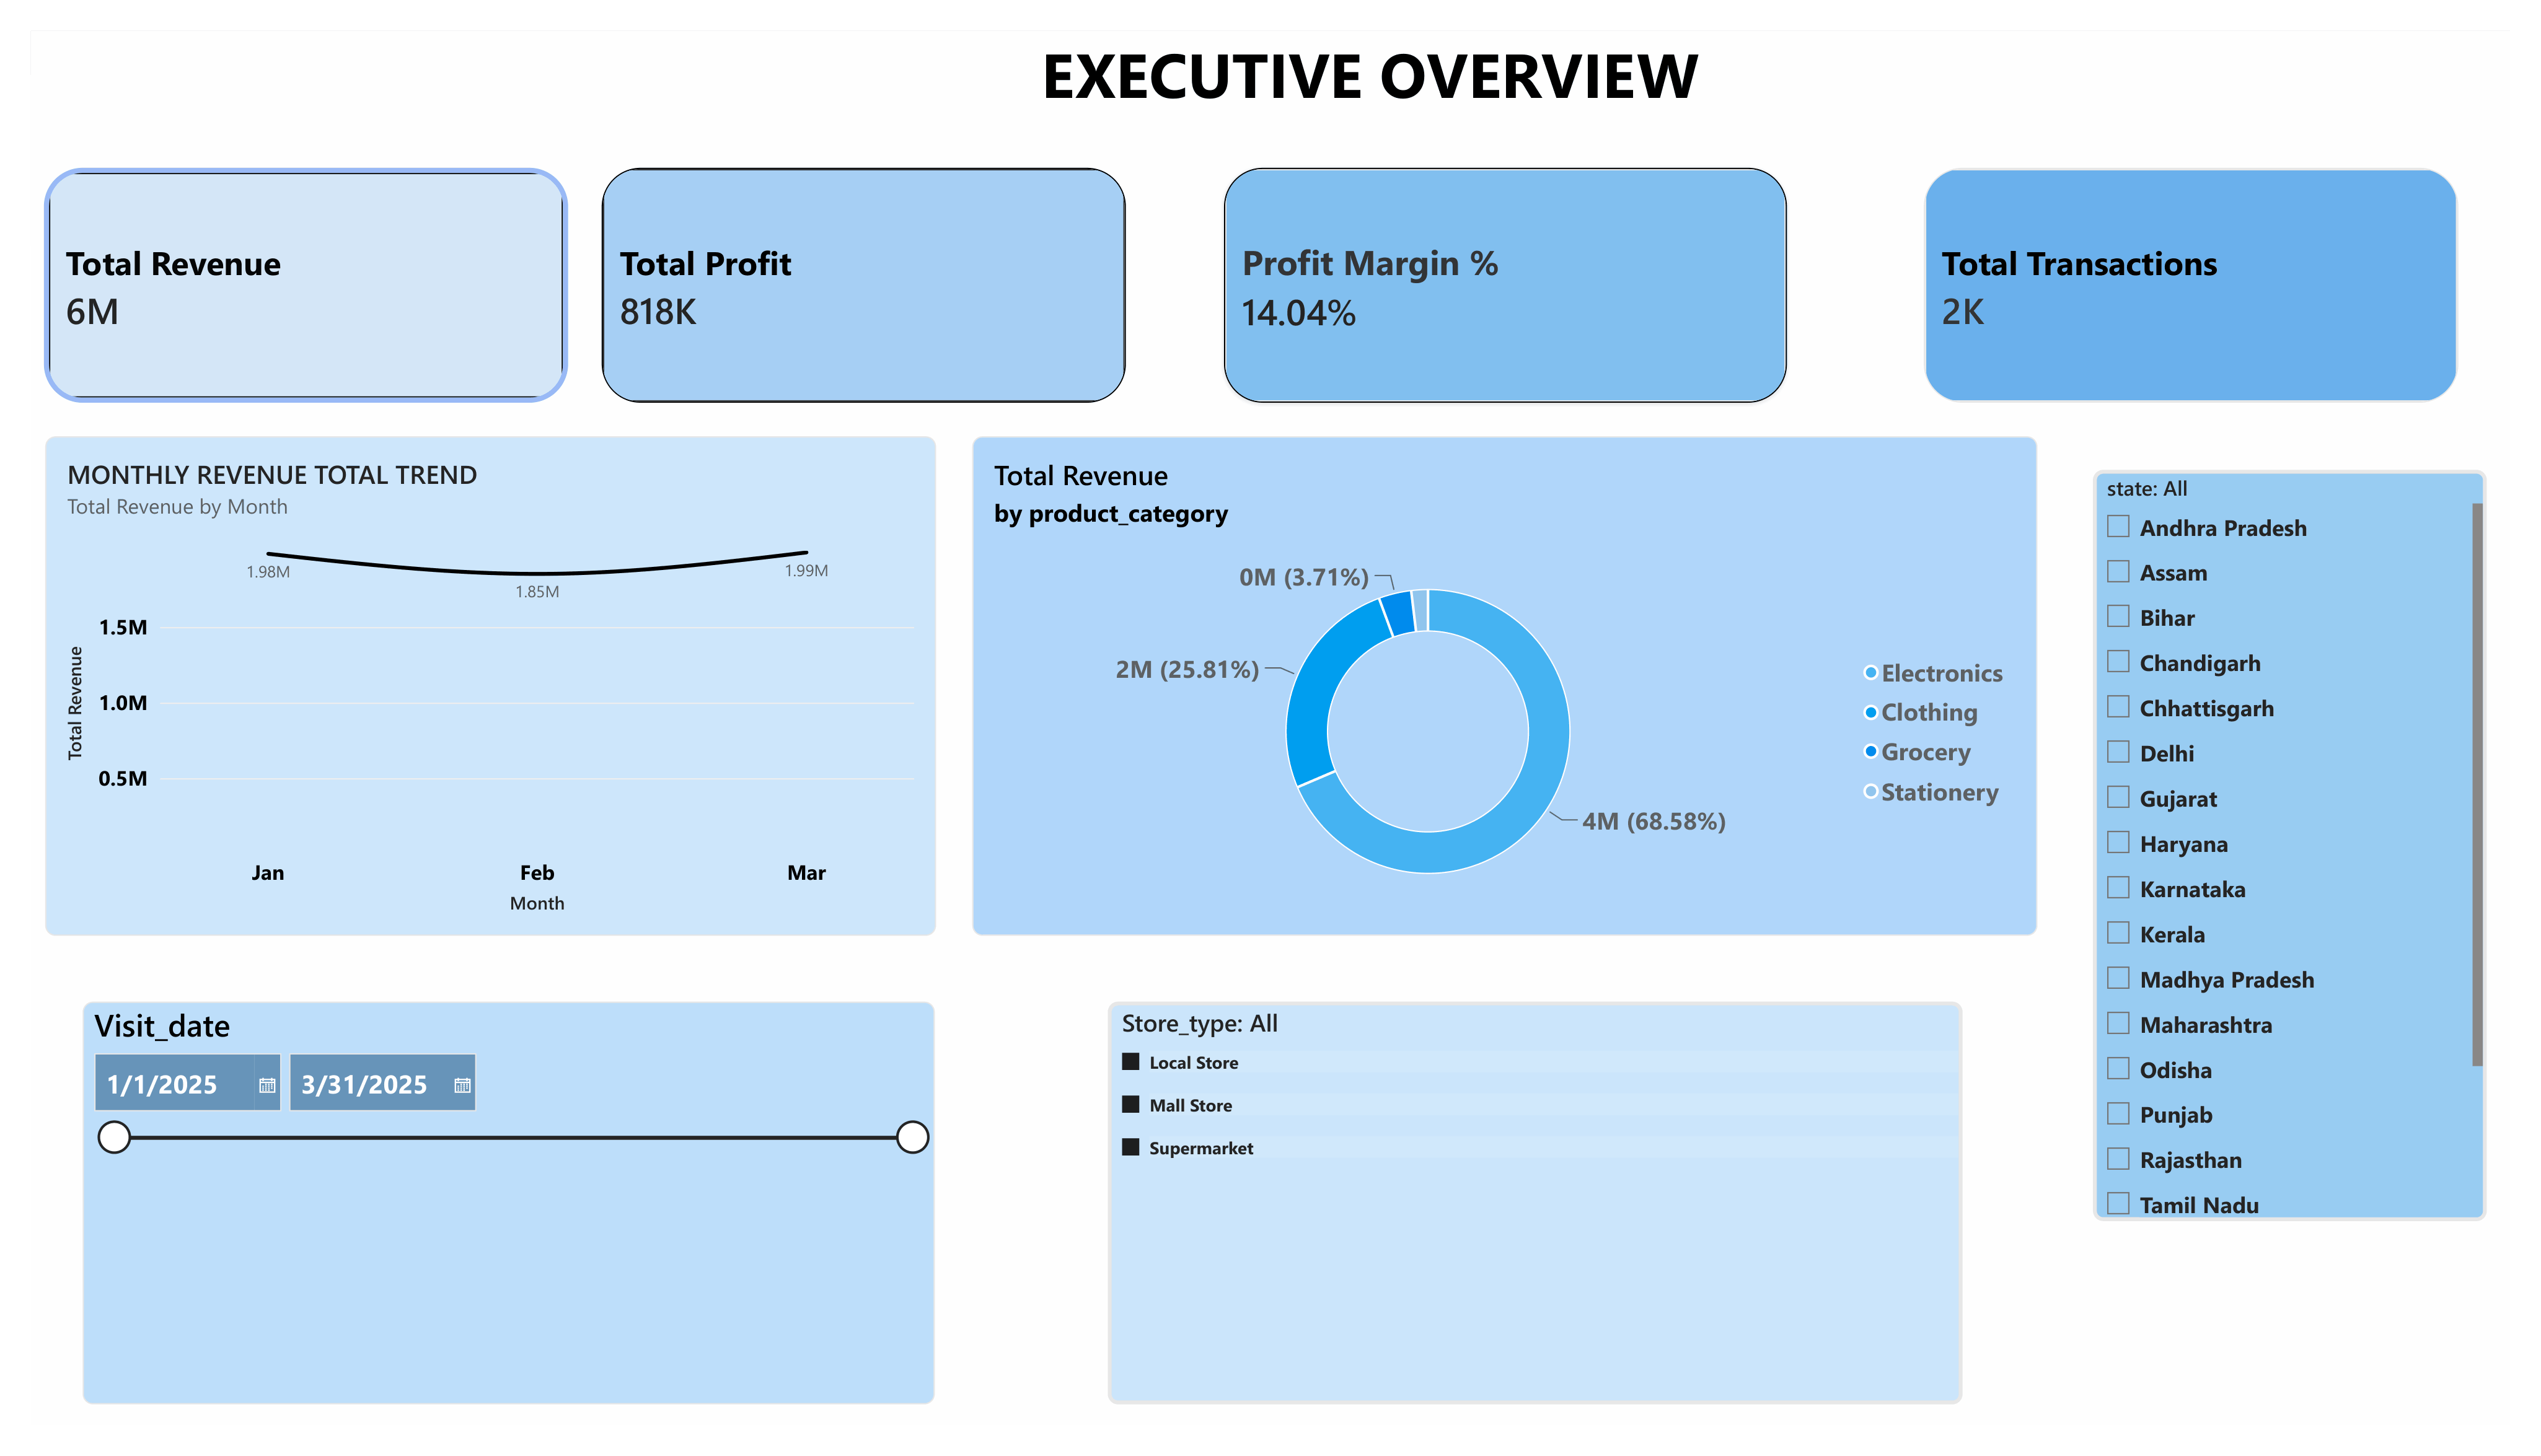

This screenshot's page, from the dashboard's own definition file:
{"tool":"powerbi","page":{"name":"Executive Overview","canvas":[1920,1080],"ordinal":0},"visuals":[{"type":"cardVisual","fields":{"Data":["MeasureTable.Total Revenue"]},"box":[10,106,406,182],"z":0},{"type":"cardVisual","fields":{"Data":["MeasureTable.Total Profit"]},"box":[442,106,406,182],"z":1000},{"type":"cardVisual","fields":{"Data":["MeasureTable.Profit Margin %"]},"box":[924,106,436,182],"z":2000},{"type":"cardVisual","fields":{"Data":["MeasureTable.Total Transactions"]},"box":[1466,106,414,182],"z":3000},{"type":"lineChart","title":"MONTHLY REVENUE TOTAL TREND","fields":{"Y":["MeasureTable.Total Revenue"],"Category":["DateTable.Month"]},"box":[10.8,313.8,690.4,387.4],"z":4000},{"type":"donutChart","fields":{"Category":["Sales.product_category"],"Y":["MeasureTable.Total Revenue"]},"box":[729.3,313.8,824.5,387.4],"z":5000},{"type":"slicer","fields":{"Values":["Sales.state"]},"box":[1597.1,339.8,305.1,582.2],"z":6000},{"type":"slicer","fields":{"Values":["Sales.store_type"]},"box":[834,752,662,312],"z":7000},{"type":"slicer","fields":{"Values":["Sales.visit_date"]},"box":[40,752,660,312],"z":8000},{"type":"textbox","box":[646,0,782,164],"z":9000}]}

Visuals, with their boxes on the page's 1920x1080 design canvas (x1, y1, x2, y2). These are canvas units, not pixel positions in the 2541x1456 screenshot, which may show the page scaled, cropped or inside an application window:
cardVisual - MeasureTable.Total Revenue: 10/106/416/288
cardVisual - MeasureTable.Total Profit: 442/106/848/288
cardVisual - MeasureTable.Profit Margin %: 924/106/1360/288
cardVisual - MeasureTable.Total Transactions: 1466/106/1880/288
"MONTHLY REVENUE TOTAL TREND" lineChart: 11/314/701/701
donutChart - Sales.product_category x MeasureTable.Total Revenue: 729/314/1554/701
slicer - Sales.state: 1597/340/1902/922
slicer - Sales.store_type: 834/752/1496/1064
slicer - Sales.visit_date: 40/752/700/1064
textbox: 646/0/1428/164
